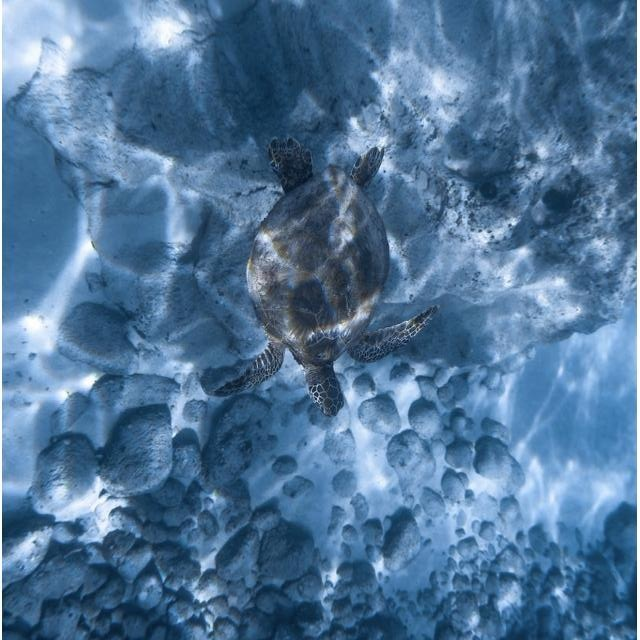turtle: (213, 135, 438, 418)
